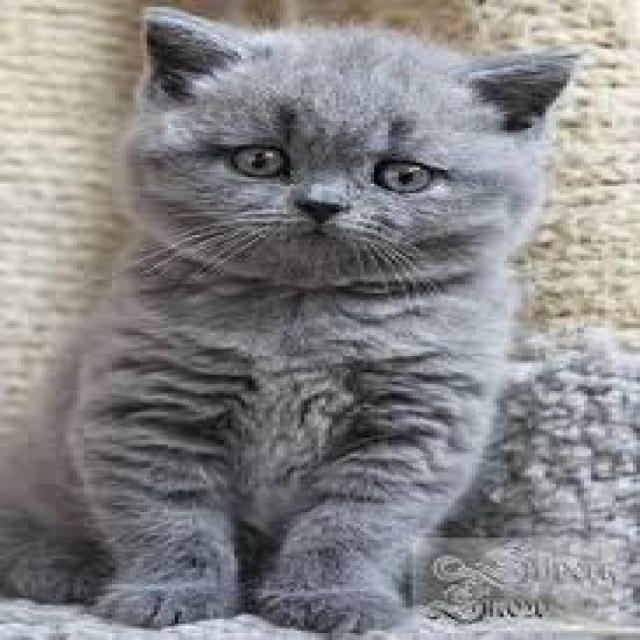Cat: (2, 4, 589, 638)
